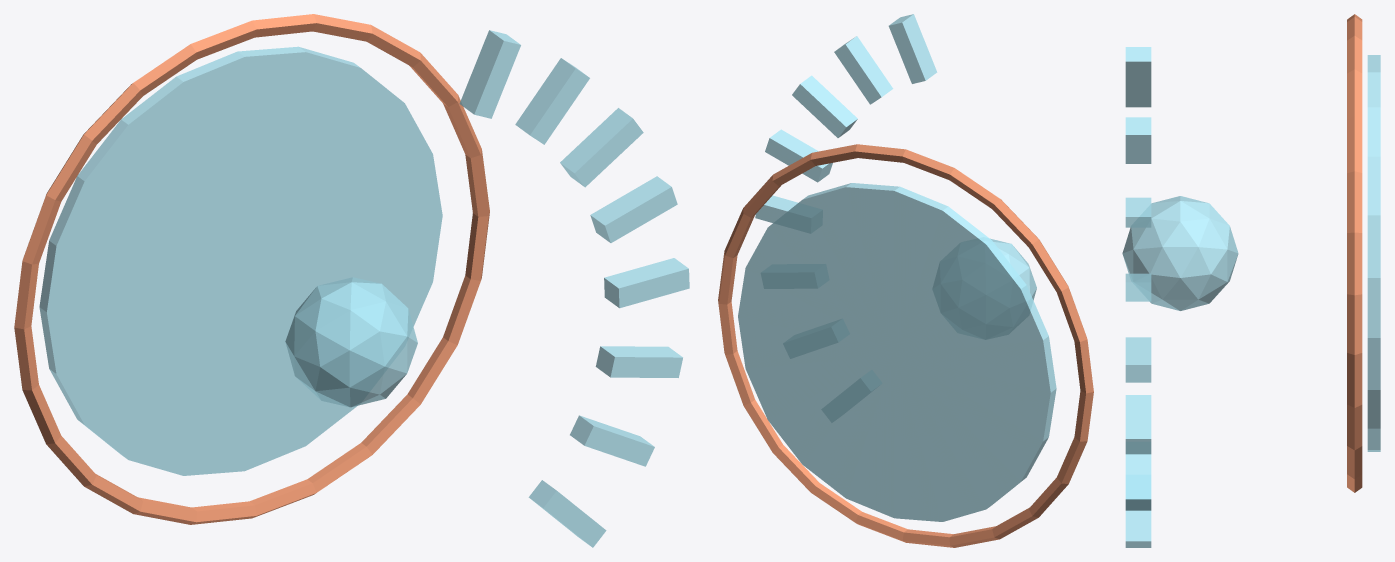
Rendered from 01_class_special_attack_vfx.glb.
The picture shows the model from 3 angles, left to right: view 1: azimuth 30°, elevation 25°; view 2: azimuth 150°, elevation 25°; view 3: azimuth 270°, elevation 25°; orthographic projection. The views are drawn at different scales.
Visible parts, largest first — view 1: ability_cast_disc, ability_outer_ring, class_energy_core, attack_flow_arc_seg_7, attack_flow_arc_seg_5, attack_flow_arc_seg_6, attack_flow_arc_seg_4, attack_flow_arc_seg_3, attack_flow_arc_seg_2, attack_flow_arc_seg_1, attack_flow_arc_seg_0; view 2: ability_cast_disc, ability_outer_ring, attack_flow_arc_seg_7, attack_flow_arc_seg_5, attack_flow_arc_seg_6, attack_flow_arc_seg_4, class_energy_core, attack_flow_arc_seg_3; view 3: class_energy_core, ability_outer_ring, ability_cast_disc, attack_flow_arc_seg_7, attack_flow_arc_seg_2, attack_flow_arc_seg_1, attack_flow_arc_seg_6, attack_flow_arc_seg_3, attack_flow_arc_seg_0, attack_flow_arc_seg_5, attack_flow_arc_seg_4.
Boxes of the visible parts, <box> form: ability_cast_disc: <box>39,46,442,475</box>; ability_outer_ring: <box>14,14,489,524</box>; class_energy_core: <box>285,277,417,407</box>; attack_flow_arc_seg_7: <box>459,30,520,118</box>; attack_flow_arc_seg_5: <box>560,108,643,187</box>; attack_flow_arc_seg_6: <box>515,58,589,144</box>; attack_flow_arc_seg_4: <box>590,176,677,242</box>; attack_flow_arc_seg_3: <box>604,258,689,308</box>; attack_flow_arc_seg_2: <box>595,346,682,377</box>; attack_flow_arc_seg_1: <box>570,415,654,466</box>; attack_flow_arc_seg_0: <box>528,480,606,547</box>; ability_cast_disc: <box>738,183,1056,521</box>; ability_outer_ring: <box>718,144,1093,547</box>; attack_flow_arc_seg_7: <box>888,14,937,83</box>; attack_flow_arc_seg_5: <box>792,75,857,137</box>; attack_flow_arc_seg_6: <box>834,36,893,104</box>; attack_flow_arc_seg_4: <box>765,129,832,182</box>; class_energy_core: <box>990,238,1036,300</box>; attack_flow_arc_seg_3: <box>755,195,798,222</box>; class_energy_core: <box>1122,196,1238,310</box>; ability_outer_ring: <box>1347,14,1362,492</box>; ability_cast_disc: <box>1367,55,1380,451</box>; attack_flow_arc_seg_7: <box>1125,47,1151,107</box>; attack_flow_arc_seg_2: <box>1125,395,1151,454</box>; attack_flow_arc_seg_1: <box>1125,454,1151,510</box>; attack_flow_arc_seg_6: <box>1125,117,1151,163</box>; attack_flow_arc_seg_3: <box>1125,337,1151,382</box>; attack_flow_arc_seg_0: <box>1125,510,1151,547</box>; attack_flow_arc_seg_5: <box>1125,197,1151,227</box>; attack_flow_arc_seg_4: <box>1125,273,1151,301</box>.
Size of the model in its own units: 1.71 by 1.63 by 0.8.
